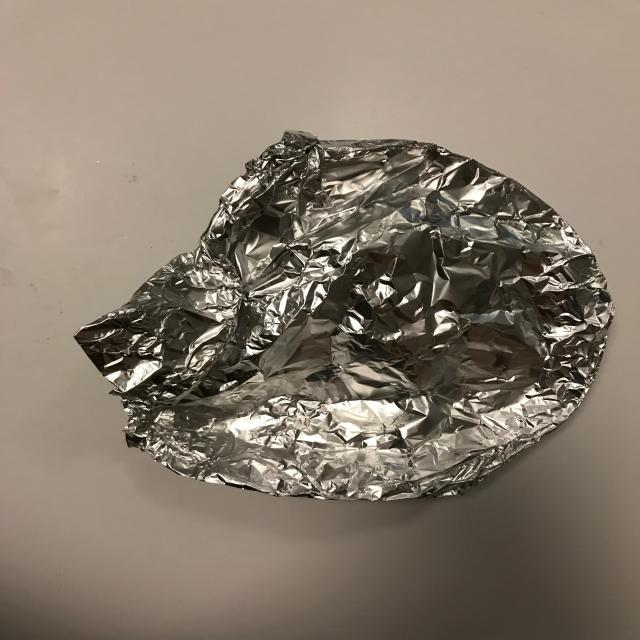metal: (70, 130, 616, 504)
